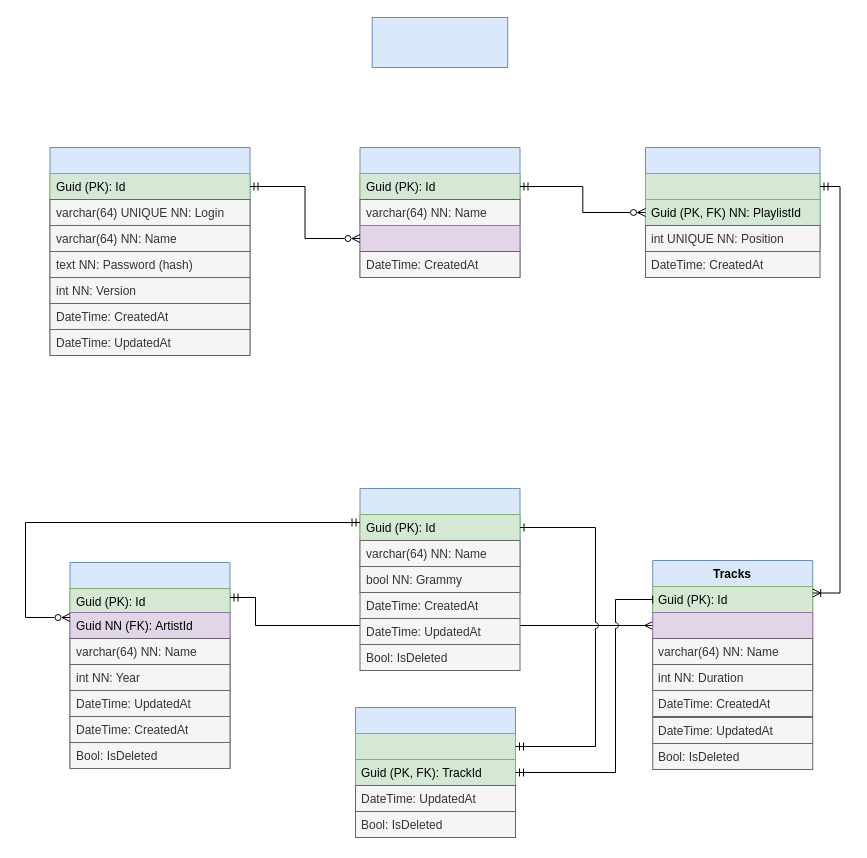
Some shapes in this 867 by 858 pixel diagram are drawn without their labels. The shapes that lost their labels are listed below. From the top down, each one's box as (x1, y1, x2, y2) in pixels, then its label:
(371, 16, 508, 68): Hooli Music
(644, 172, 820, 200): Guid (PK, FK) NN: TrackId
(644, 146, 820, 252): Playlist_Tracks
(359, 146, 520, 278): User _ Playlists
(49, 146, 250, 356): Users
(359, 224, 520, 252): Guid (FK) NN: UserId
(359, 488, 520, 592): Artists
(652, 612, 813, 638): Guid (FK) NN: AlbumId
(69, 562, 230, 768): Albums
(354, 732, 516, 760): Guid (PK, FK): AritstId
(354, 706, 516, 838): Track_Artist
